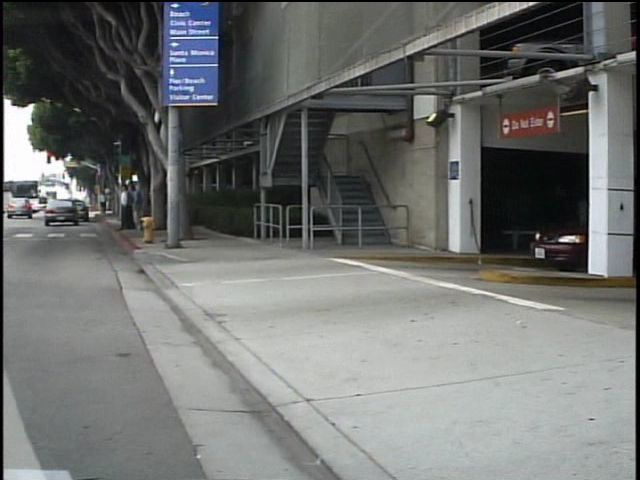person: (102, 186, 118, 220)
